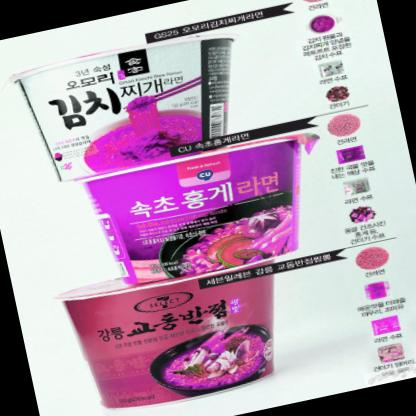Ramen: (69, 124, 345, 300), (56, 244, 299, 416), (3, 24, 251, 191)
